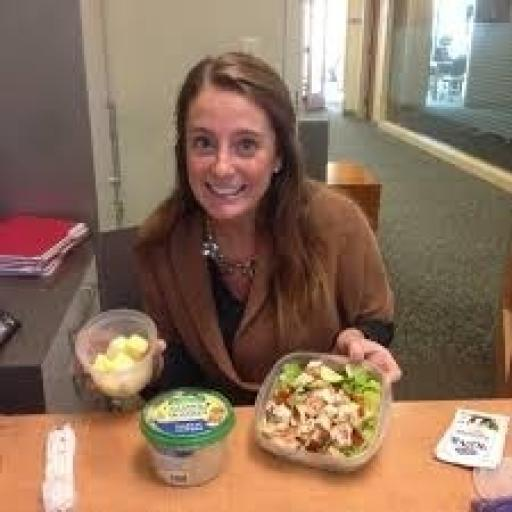eating: (127, 48, 403, 403)
